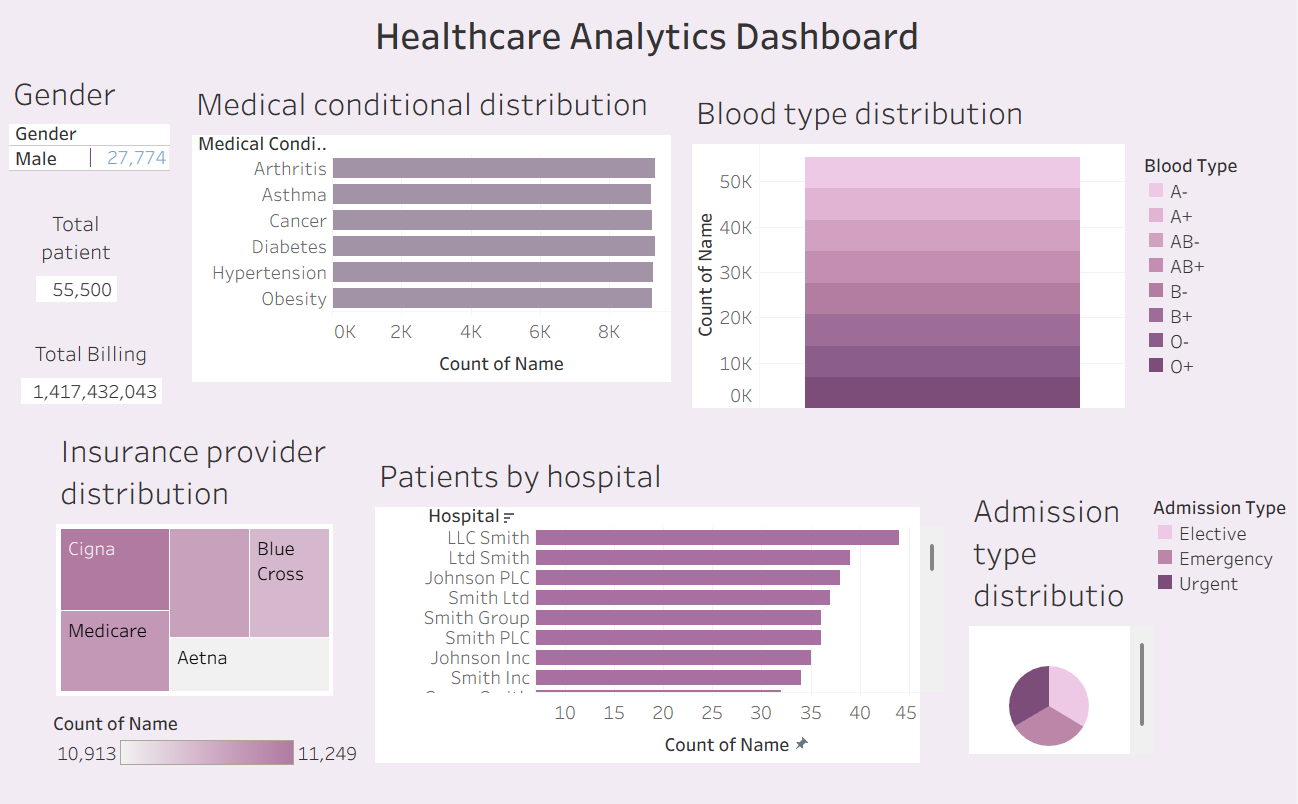

The page's visual inventory and layout, read from the dashboard file:
{"tool":"tableau","page":{"name":"Dashboard 1","canvas":[1300,1000],"ordinal":0},"visuals":[{"type":"title","box":[8,8,1284,58]},{"type":"worksheet","title":"Gender distribution","mark":"Bar","rows":["Gender"],"box":[8,66,1284,117]},{"type":"worksheet","title":"Medical conditional distribution","mark":"Automatic","rows":["Medical Condition"],"cols":["Name"],"box":[195,80,479,316]},{"type":"worksheet","title":"Blood type distribution","mark":"Automatic","rows":["Name"],"box":[695,89,433,321]},{"type":"legend","title":"Blood type distribution","param":"[federated.0jhc1cr1gi3r0v1aj3tew011b1is].[none:Blood Type:nk]","box":[1147,154,140,226]},{"type":"worksheet","title":"Total patients","mark":"Text","box":[39,207,149,99]},{"type":"worksheet","title":"Total Billing","mark":"Text","box":[24,337,211,90]},{"type":"worksheet","title":"Insurance provider distribution","mark":"Automatic","box":[59,427,277,286]},{"type":"worksheet","title":"Patients by hospital","mark":"Automatic","rows":["Hospital"],"cols":["Name"],"box":[378,452,569,313]},{"type":"legend","title":"Admission type distribution","param":"[federated.0jhc1cr1gi3r0v1aj3tew011b1is].[none:Admission Type:nk]","box":[1156,496,140,101]},{"type":"legend","title":"Insurance provider distribution","param":"[federated.0jhc1cr1gi3r0v1aj3tew011b1is].[cnt:Name:qk]","box":[56,712,309,100]}]}

Visuals, with their boxes on the page's 1300x1000 design canvas (x1, y1, x2, y2). These are canvas units, not pixel positions in the 1298x804 screenshot, which may show the page scaled, cropped or inside an application window:
title: 8:8:1292:66
"Gender distribution" worksheet (Bar marks): 8:66:1292:183
"Medical conditional distribution" worksheet: 195:80:674:396
"Blood type distribution" worksheet: 695:89:1128:410
"Blood type distribution" legend: 1147:154:1287:380
"Total patients" worksheet (Text marks): 39:207:188:306
"Total Billing" worksheet (Text marks): 24:337:235:427
"Insurance provider distribution" worksheet: 59:427:336:713
"Patients by hospital" worksheet: 378:452:947:765
"Admission type distribution" legend: 1156:496:1296:597
"Insurance provider distribution" legend: 56:712:365:812
